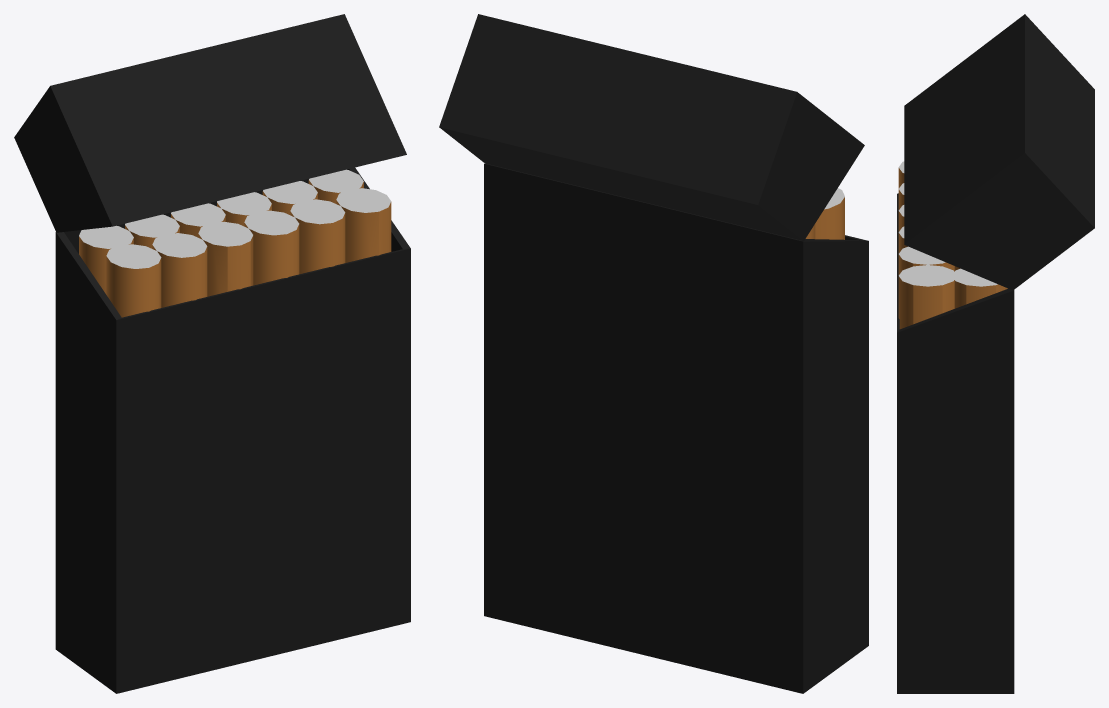
File: paczka_z_papierosami.fbx
3 views of the same model, side by side, from view 1: azimuth 30°, elevation 25°; view 2: azimuth 150°, elevation 25°; view 3: azimuth 270°, elevation 25° (orthographic). The views are drawn at different scales.
Visible parts, largest first — view 1: paczka z fajkami, pokrywa; view 2: paczka z fajkami, pokrywa; view 3: paczka z fajkami, pokrywa.
Boxes of the visible parts, left/top/right/bottom form: paczka z fajkami: left=55, top=167, right=410, bottom=693; pokrywa: left=14, top=14, right=406, bottom=232; paczka z fajkami: left=484, top=163, right=868, bottom=693; pokrywa: left=439, top=14, right=864, bottom=240; paczka z fajkami: left=897, top=161, right=1014, bottom=693; pokrywa: left=904, top=14, right=1094, bottom=290.
Bounding box in the file's own units: 240 × 435 × 144.
